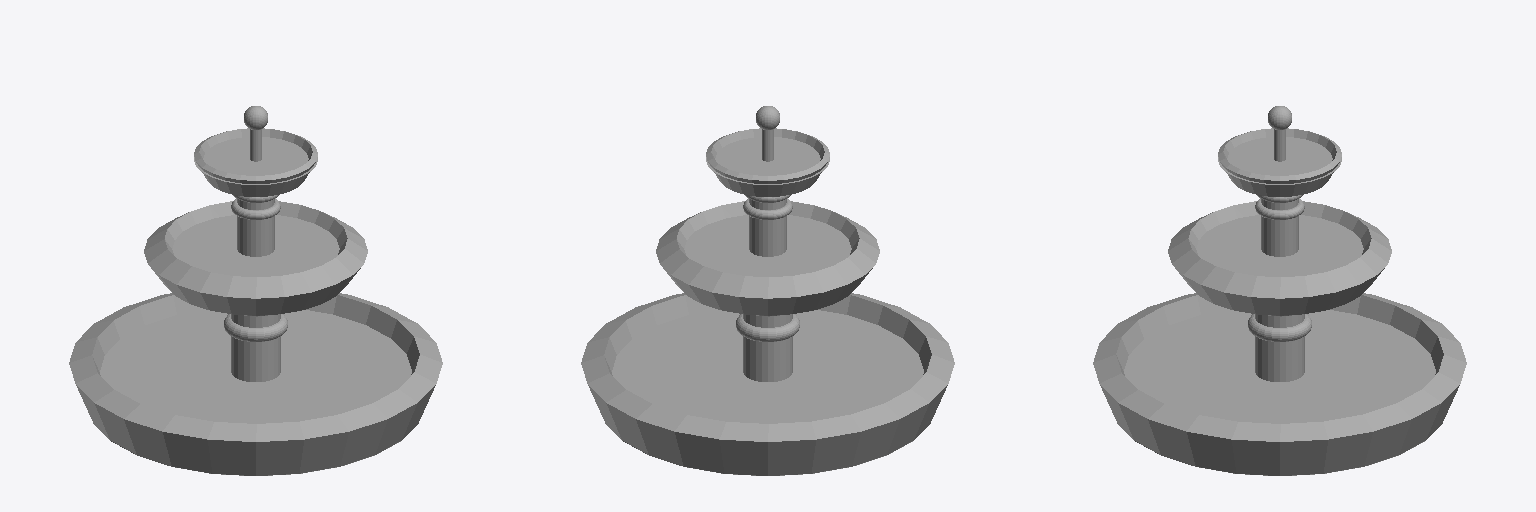
The model's file is fountain.obj.
The picture shows the model from 3 angles: view 1: azimuth 30°, elevation 25°; view 2: azimuth 150°, elevation 25°; view 3: azimuth 270°, elevation 25°; orthographic projection.
Visible parts, largest first — view 1: Cylinder, Cylinder8, Cylinder2, Cylinder9, Cylinder4, Cylinder10, Cylinder6, Cylinder7, Torus1, Torus3; view 2: Cylinder, Cylinder8, Cylinder2, Cylinder9, Cylinder4, Cylinder10, Cylinder6, Cylinder7, Torus1, Torus3; view 3: Cylinder, Cylinder8, Cylinder2, Cylinder9, Cylinder4, Cylinder10, Cylinder6, Cylinder7, Torus1, Torus3.
Boxes of the visible parts, x1,y1,x2,y2 form: Cylinder: [69, 293, 442, 475]; Cylinder8: [100, 310, 411, 423]; Cylinder2: [144, 201, 367, 315]; Cylinder9: [172, 215, 339, 276]; Cylinder4: [194, 128, 317, 196]; Cylinder10: [194, 137, 317, 184]; Cylinder6: [231, 314, 280, 381]; Cylinder7: [237, 199, 274, 256]; Torus1: [224, 314, 287, 341]; Torus3: [231, 198, 280, 219]; Cylinder: [581, 293, 954, 475]; Cylinder8: [612, 310, 923, 423]; Cylinder2: [656, 201, 879, 315]; Cylinder9: [684, 215, 851, 276]; Cylinder4: [706, 128, 829, 196]; Cylinder10: [706, 137, 829, 184]; Cylinder6: [743, 314, 792, 381]; Cylinder7: [749, 199, 786, 256]; Torus1: [736, 314, 799, 341]; Torus3: [743, 198, 792, 219]; Cylinder: [1093, 293, 1466, 475]; Cylinder8: [1124, 310, 1435, 423]; Cylinder2: [1168, 201, 1391, 315]; Cylinder9: [1196, 215, 1363, 276]; Cylinder4: [1218, 128, 1341, 196]; Cylinder10: [1218, 137, 1341, 184]; Cylinder6: [1255, 314, 1304, 381]; Cylinder7: [1261, 199, 1298, 256]; Torus1: [1248, 314, 1311, 341]; Torus3: [1255, 198, 1304, 219].
Size of the model in its own units: 30 by 26.43 by 30.